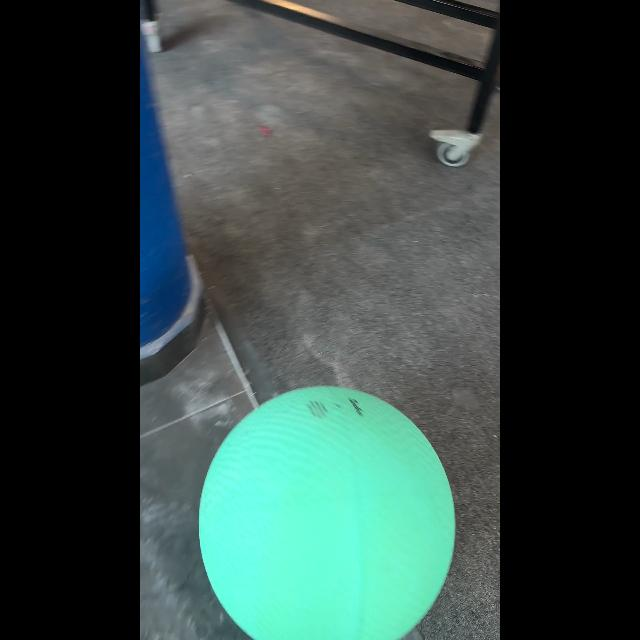ALGAE: (198, 384, 457, 638)
